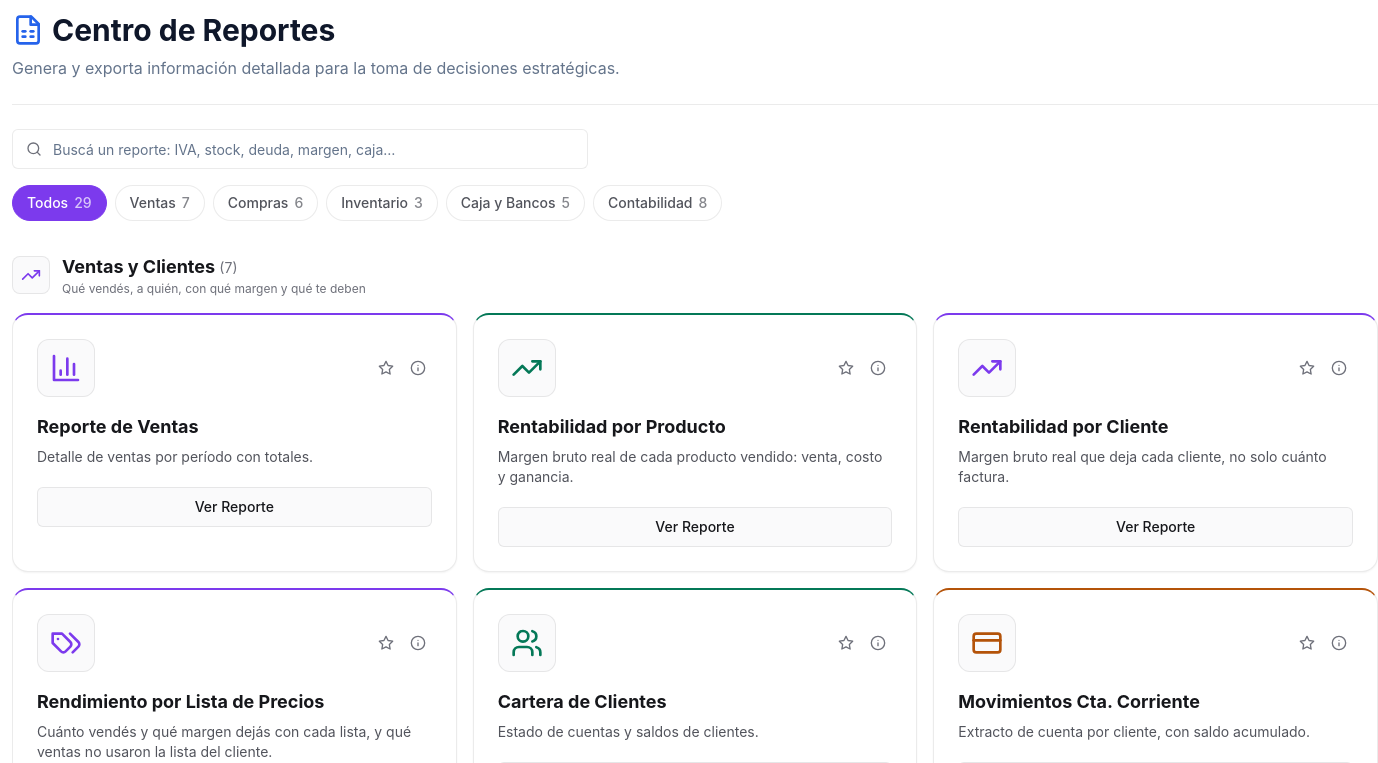
Test: GridReportes — buscador › la X del buscador borra el texto
Type "iva" into the field named "Buscar reporte" at (300, 149), box [12, 129, 588, 169]
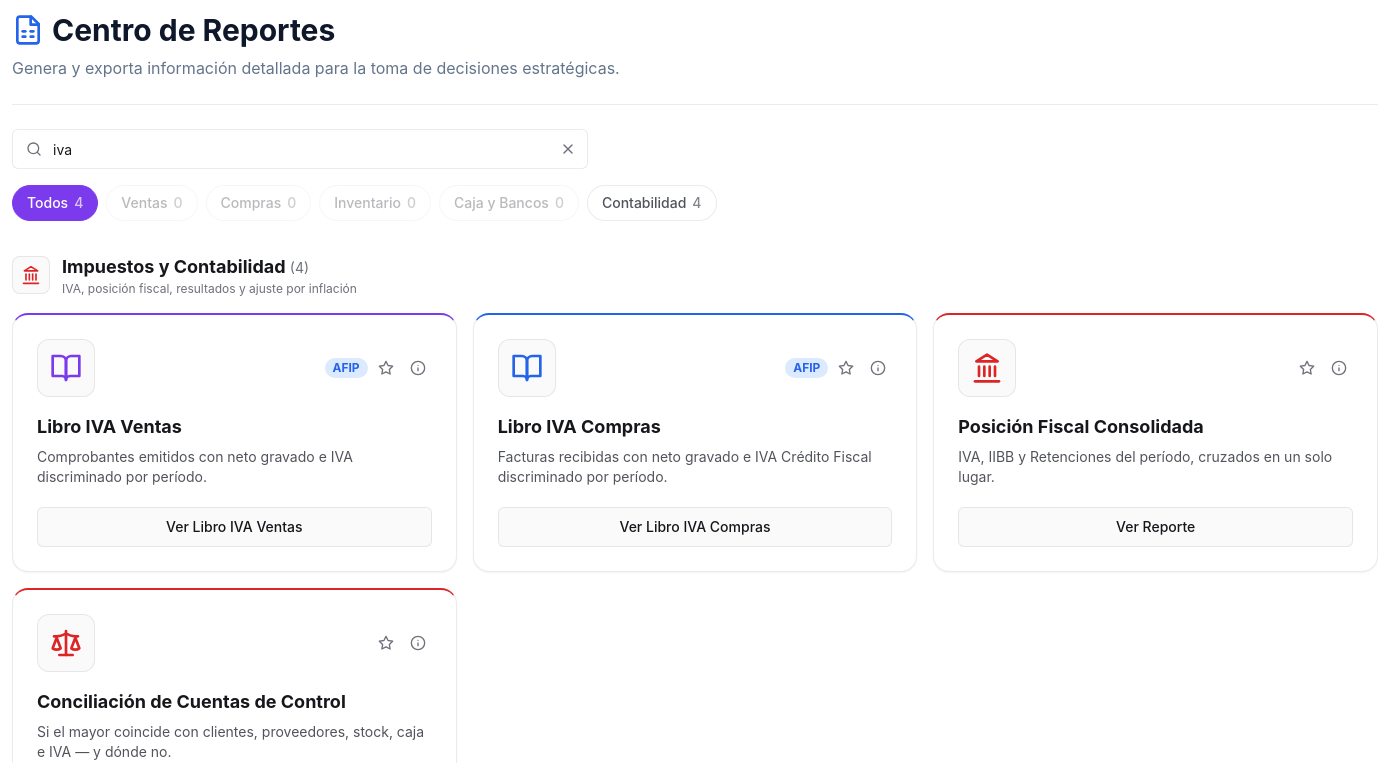
Click the button named "Borrar lo escrito" at (568, 149), box [558, 139, 578, 159]
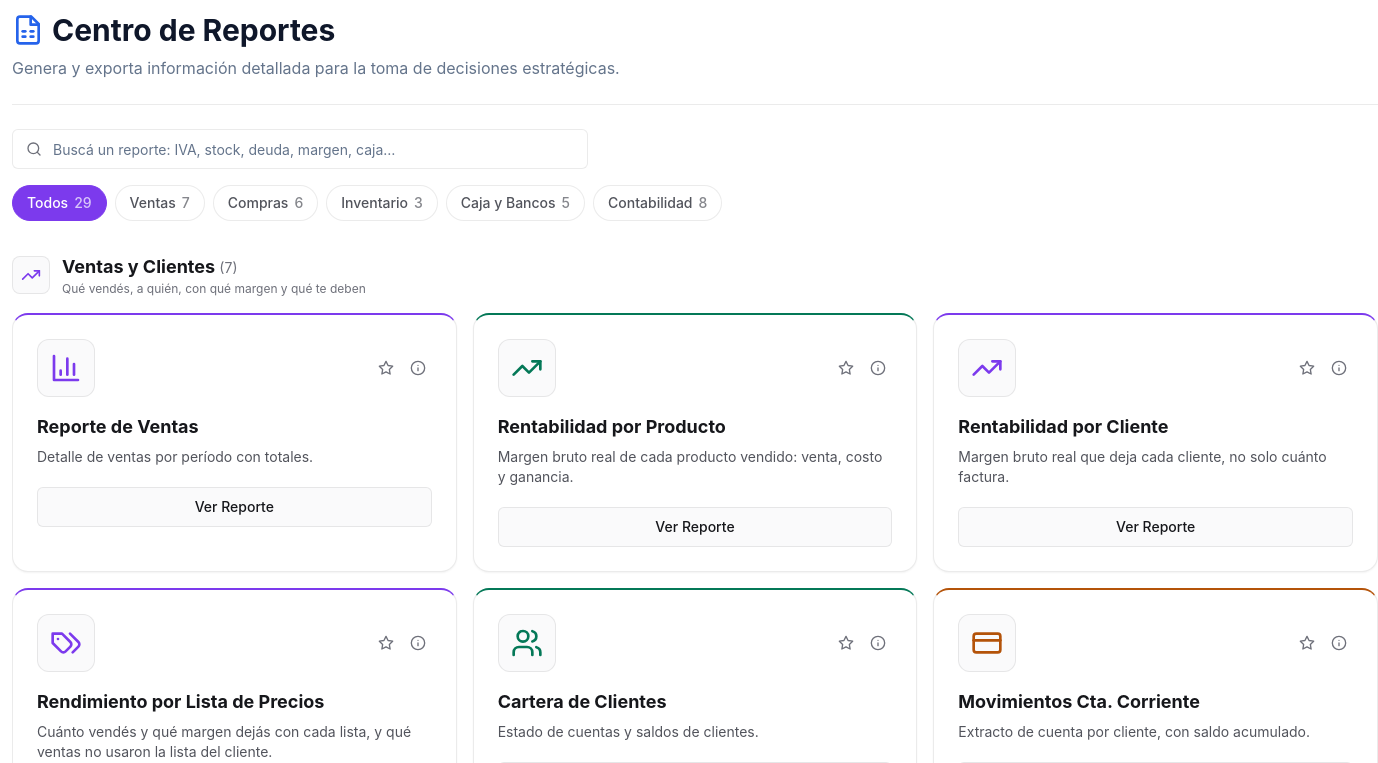
expect the field named "Buscar reporte" is empty: met, box [12, 129, 588, 169]
